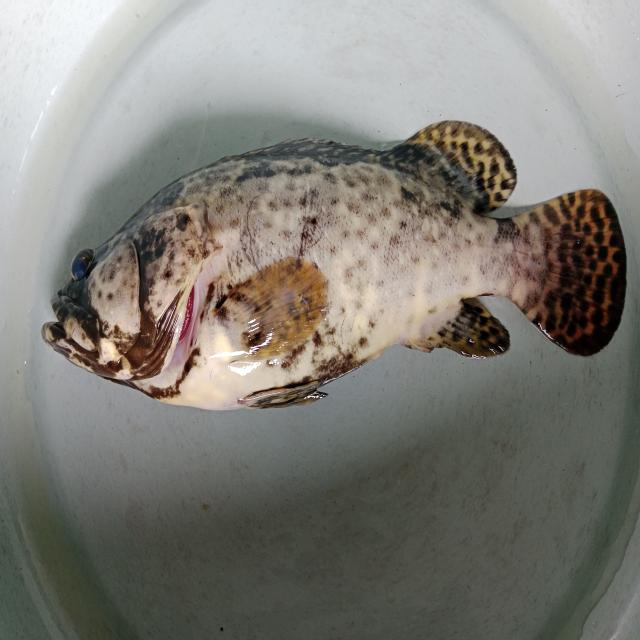ikan: (43, 116, 628, 423)
